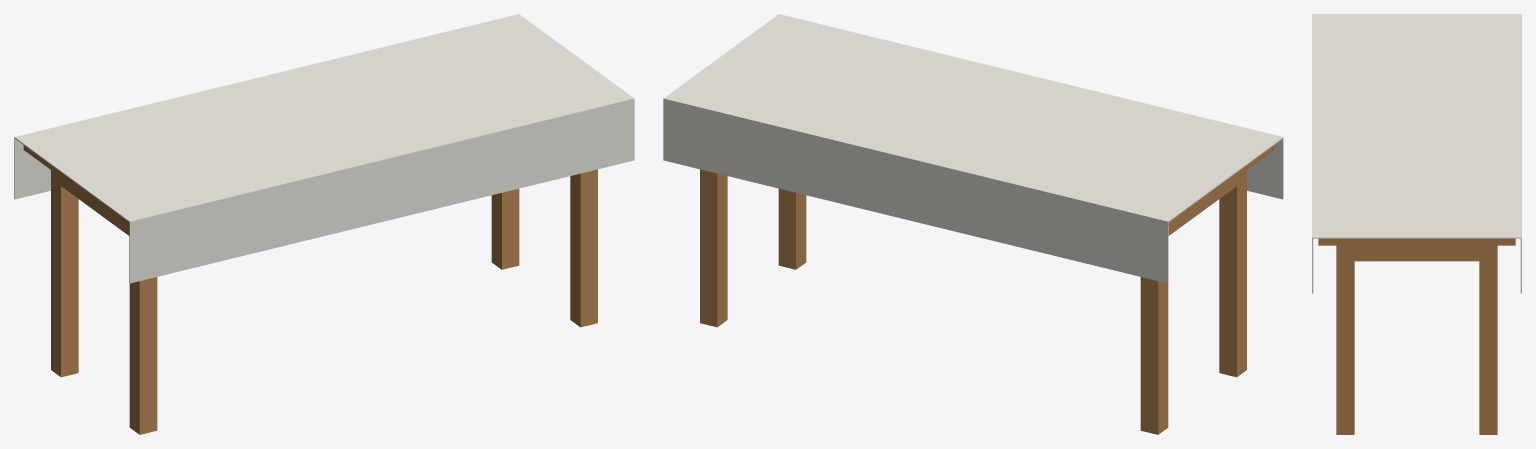
3 views of the same model, side by side, from view 1: azimuth 30°, elevation 25°; view 2: azimuth 150°, elevation 25°; view 3: azimuth 270°, elevation 25° (orthographic). The views are drawn at different scales.
Visible parts, largest first — view 1: parametric-variant-table-2nd-pub-04c5315c1652c6932948; view 2: parametric-variant-table-2nd-pub-04c5315c1652c6932948; view 3: parametric-variant-table-2nd-pub-04c5315c1652c6932948.
Boxes of the visible parts, <box> form: parametric-variant-table-2nd-pub-04c5315c1652c6932948: <box>14,14,634,434</box>; parametric-variant-table-2nd-pub-04c5315c1652c6932948: <box>663,14,1283,434</box>; parametric-variant-table-2nd-pub-04c5315c1652c6932948: <box>1312,14,1521,434</box>.
Size of the model in its own units: 1.74 by 0.754 by 0.69.
